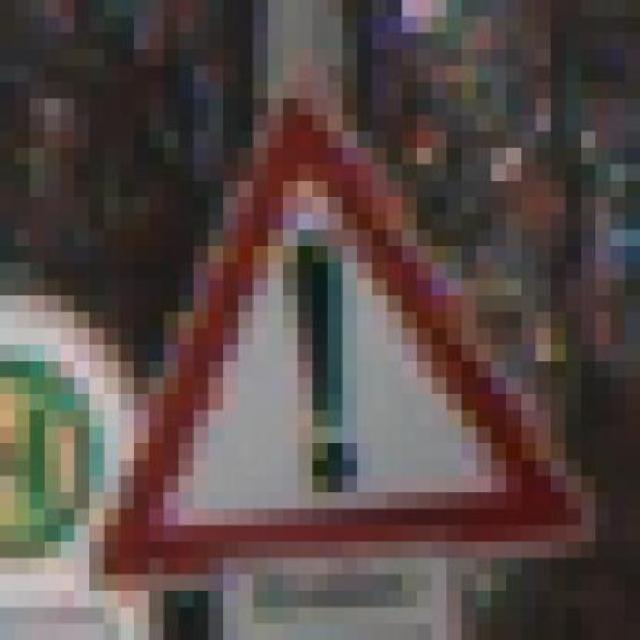Attention Please-: (50, 104, 587, 581)
